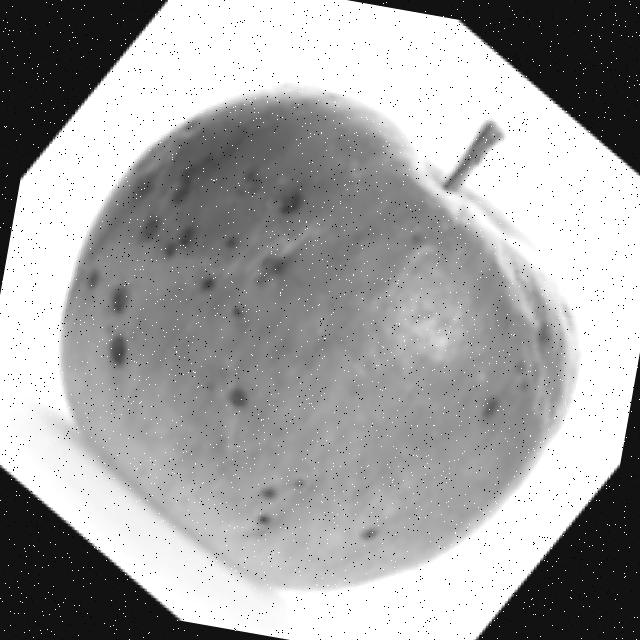overripe: (15, 40, 626, 629)
